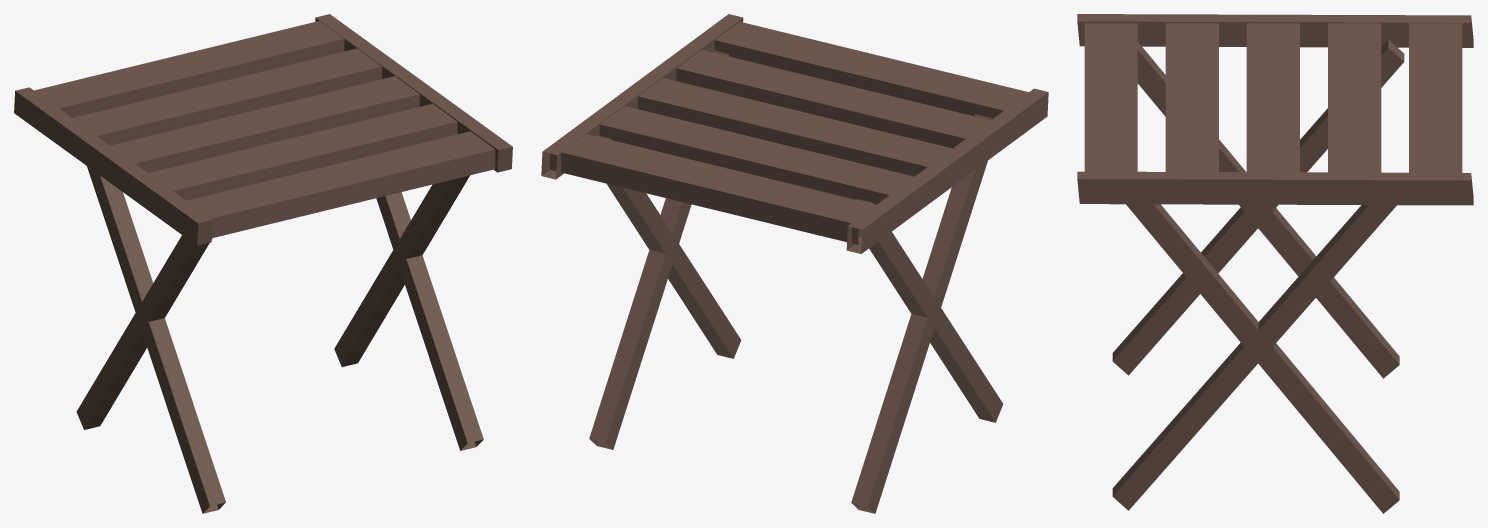
The model's file is garden table.fbx.
The picture shows the model from 3 angles, left to right: view 1: azimuth 30°, elevation 25°; view 2: azimuth 150°, elevation 25°; view 3: azimuth 270°, elevation 25°; orthographic projection. The views are drawn at different scales.
Parts seen in each view (by area): view 1: polySurface176; view 2: polySurface176; view 3: polySurface176.
Part boxes in pixels (x1,y1,x2,y2): polySurface176: [14, 14, 512, 513]; polySurface176: [541, 14, 1048, 513]; polySurface176: [1077, 14, 1473, 513].
Size of the model in its own units: 0.773 by 0.7455 by 0.7841.
